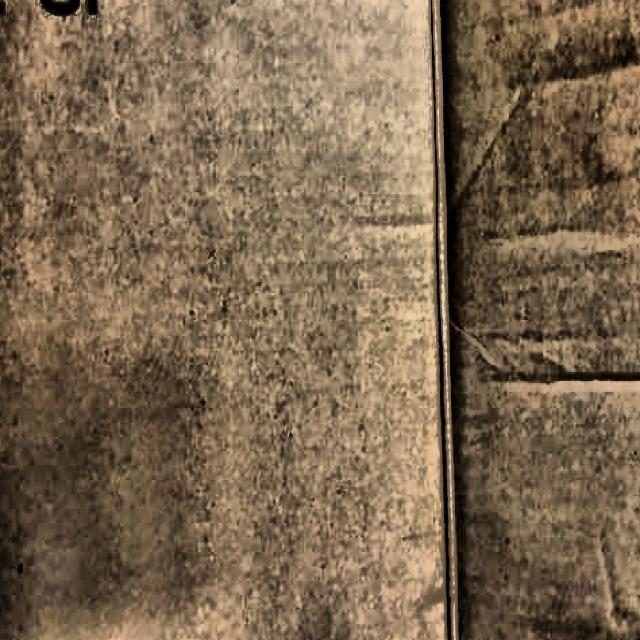cardboard: (433, 0, 640, 640)
